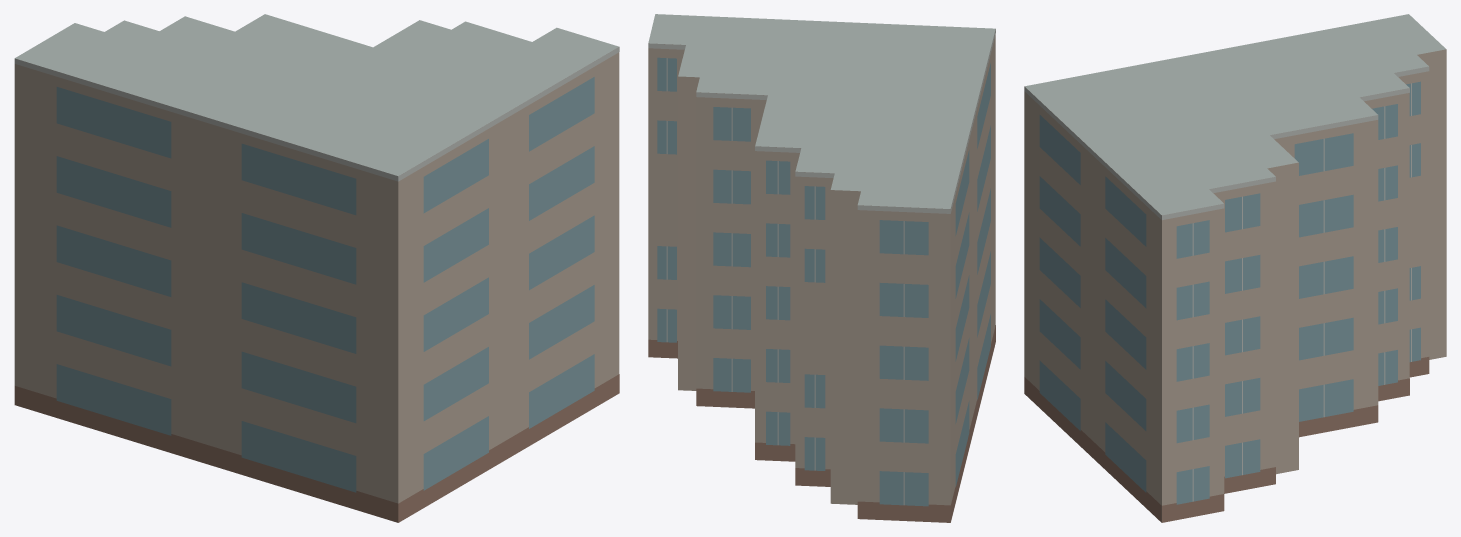
File: survey-upis-32758626.glb
3 views of the same model, side by side, from view 1: azimuth 30°, elevation 25°; view 2: azimuth 150°, elevation 25°; view 3: azimuth 270°, elevation 25° (orthographic). The views are drawn at different scales.
Visible parts, largest first — view 1: survey-upis-32758626.tmp; view 2: survey-upis-32758626.tmp; view 3: survey-upis-32758626.tmp.
Boxes of the visible parts, left/top/right/bottom form: survey-upis-32758626.tmp: left=14, top=14, right=619, bottom=522; survey-upis-32758626.tmp: left=648, top=14, right=995, bottom=522; survey-upis-32758626.tmp: left=1024, top=14, right=1446, bottom=522.
Bounding box in the file's own units: 22.08 × 15.7 × 19.55.
